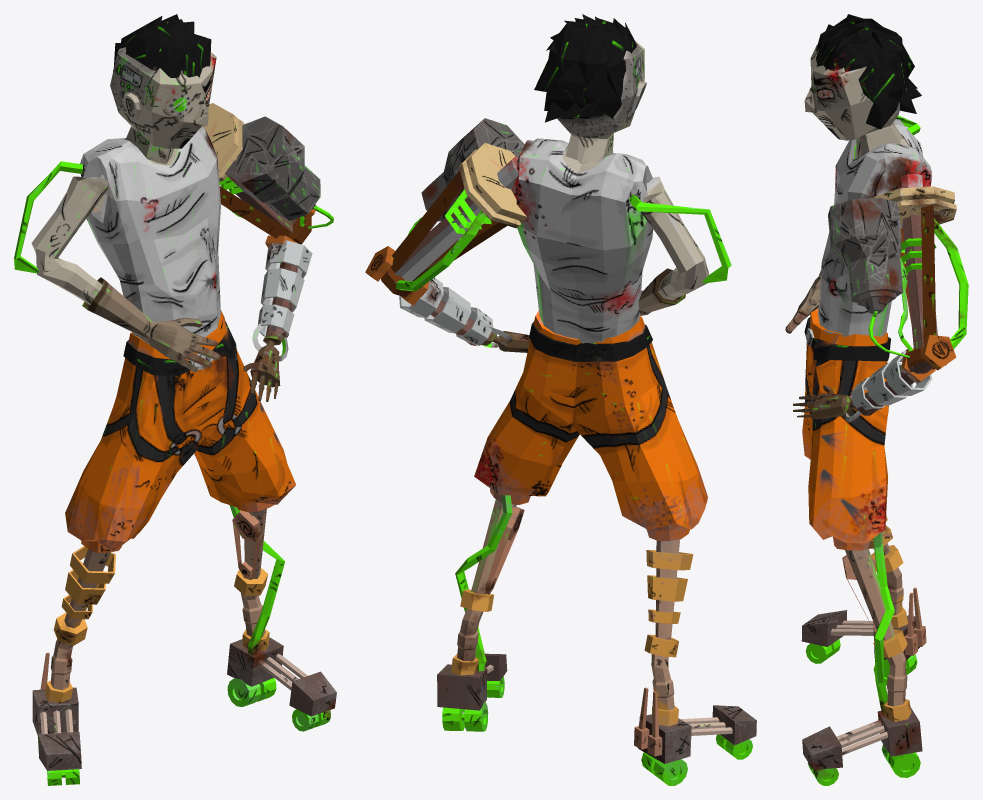
Rendered from CyborgFINALAnimation_000061.obj.
3 views of the same model, side by side, from view 1: azimuth 30°, elevation 25°; view 2: azimuth 150°, elevation 25°; view 3: azimuth 270°, elevation 25° (orthographic). The views are drawn at different scales.
Visible parts, largest first — view 1: CyborgMesh_Cube.002; view 2: CyborgMesh_Cube.002; view 3: CyborgMesh_Cube.002.
Part boxes in pixels (bbox=[...]): CyborgMesh_Cube.002: bbox=[14, 14, 336, 785]; CyborgMesh_Cube.002: bbox=[365, 14, 756, 785]; CyborgMesh_Cube.002: bbox=[785, 14, 968, 785].
Size of the model in its own units: 4.58 by 9.6 by 2.27.
